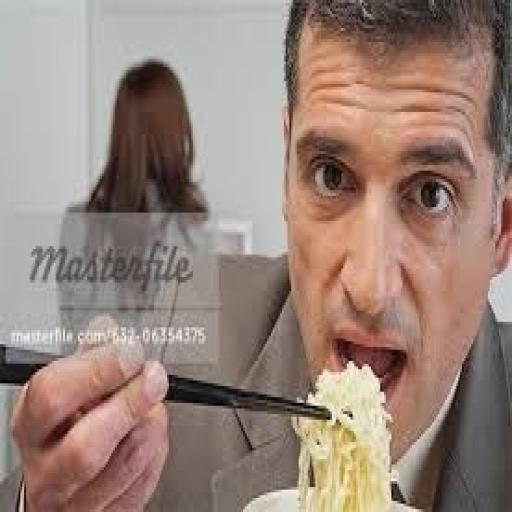eating: (4, 0, 508, 509)
